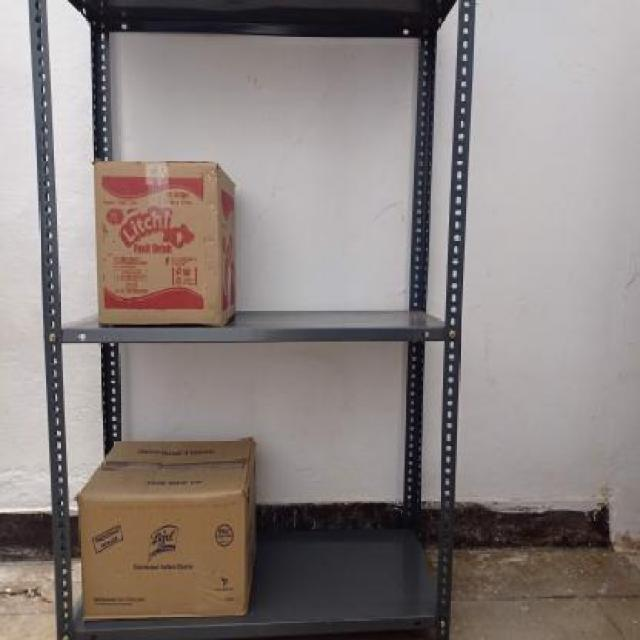box: (94, 159, 226, 327), (76, 492, 247, 616)
